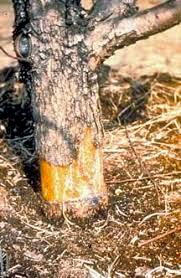Mammals Attack: (36, 143, 106, 211)
